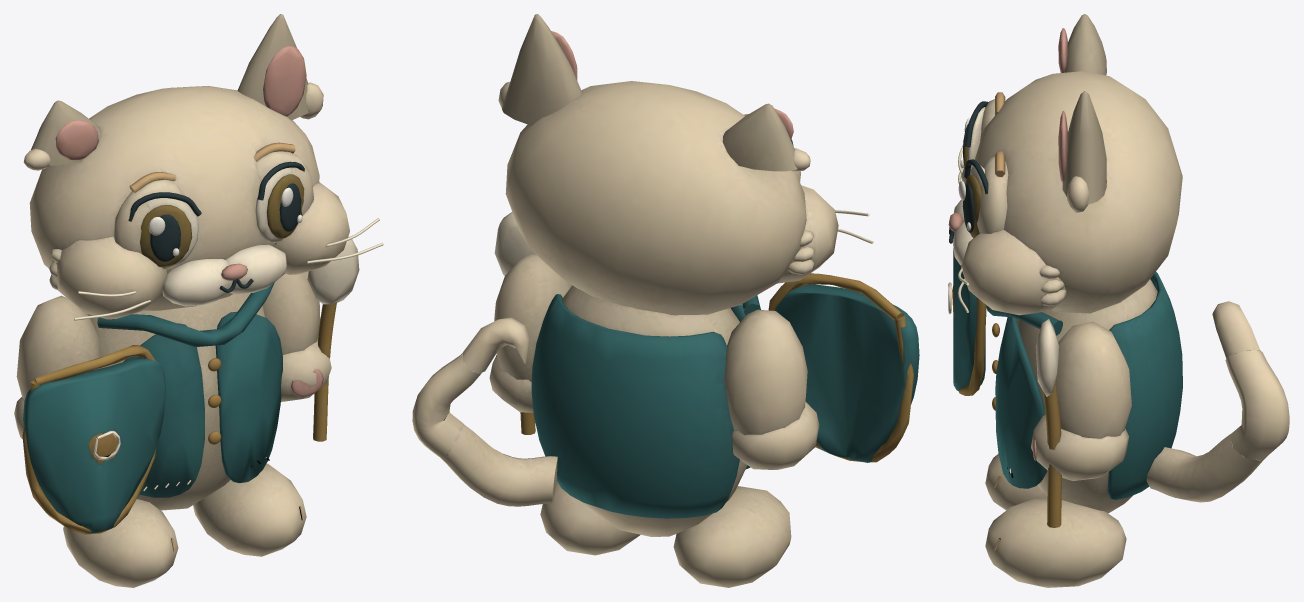
Rendered from mochi.glb.
3 views of the same model, side by side, from view 1: azimuth 30°, elevation 25°; view 2: azimuth 150°, elevation 25°; view 3: azimuth 270°, elevation 25° (orthographic). The views are drawn at different scales.
Parts seen in each view (by area): view 1: cheek-head, pear-body, rounded-shield, hind-paw.001, porcelain-eye, hind-paw, arm.001, arm, rounded-ear-R, ladle-handle, rounded-ear-L, nose; view 2: cheek-head, pear-body, rounded-shield, arm, hind-paw, arm.001, rounded-ear-R, tail-root, rounded-ear-L, tail-mid, hind-paw.001, tail-tip (+1 smaller); view 3: cheek-head, pear-body, arm.001, hind-paw.001, tail-mid, tail-root, rounded-ear-R, rounded-shield, ladle-handle, porcelain-eye, rounded-ear-L, tail-tip (+1 smaller).
Part boxes in pixels (x1,y1,x2,y2): cheek-head: (29, 86, 383, 320); pear-body: (87, 282, 282, 510); rounded-shield: (22, 345, 165, 534); hind-paw.001: (193, 463, 306, 556); porcelain-eye: (128, 161, 304, 269); hind-paw: (63, 499, 178, 587); arm.001: (262, 271, 331, 401); arm: (14, 295, 99, 438); rounded-ear-R: (237, 14, 323, 120); ladle-handle: (307, 236, 359, 441); rounded-ear-L: (23, 100, 101, 170); nose: (219, 263, 253, 292); cheek-head: (505, 81, 873, 315); pear-body: (531, 285, 760, 536); rounded-shield: (768, 273, 919, 462); arm: (724, 309, 819, 469); hind-paw: (673, 486, 791, 587); arm.001: (489, 254, 571, 412); rounded-ear-R: (498, 14, 582, 125); tail-root: (440, 424, 557, 506); rounded-ear-L: (722, 103, 810, 171); tail-mid: (412, 353, 481, 457); hind-paw.001: (540, 481, 640, 555); tail-tip: (463, 317, 529, 373); cheek-head: (953, 71, 1182, 315); pear-body: (986, 272, 1182, 513); arm.001: (1031, 321, 1131, 480); hind-paw.001: (985, 498, 1126, 587); tail-mid: (1225, 350, 1289, 460); tail-root: (1146, 431, 1267, 502); rounded-ear-R: (1058, 91, 1106, 212); rounded-shield: (948, 231, 986, 395); ladle-handle: (1035, 319, 1061, 527); porcelain-eye: (958, 101, 988, 237); rounded-ear-L: (1058, 14, 1106, 75); tail-tip: (1212, 301, 1260, 358).
Size of the model in its own units: 1.21 by 1.6 by 0.9638.
Materials: 1 (1 with a texture image).
